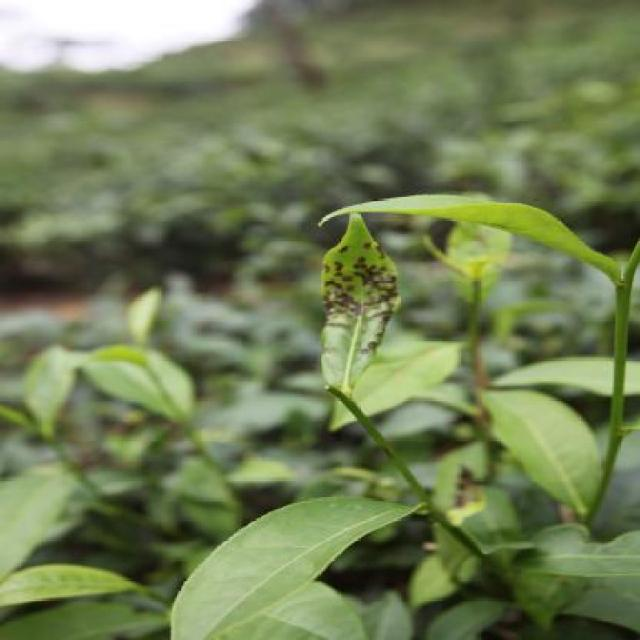Tea Mosquito bug infested leaf: (286, 208, 412, 423)
